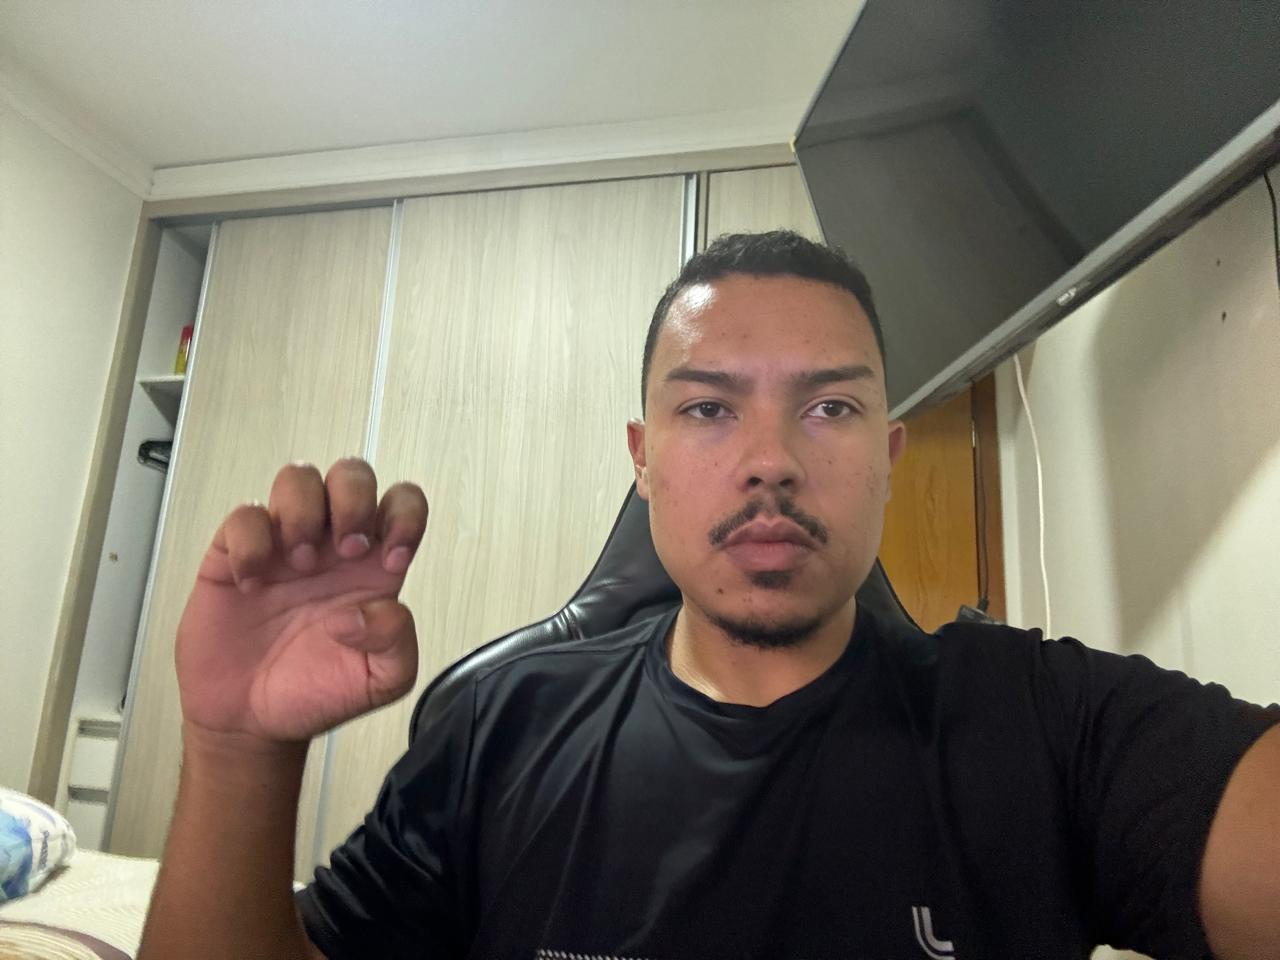e: (168, 449, 435, 749)
